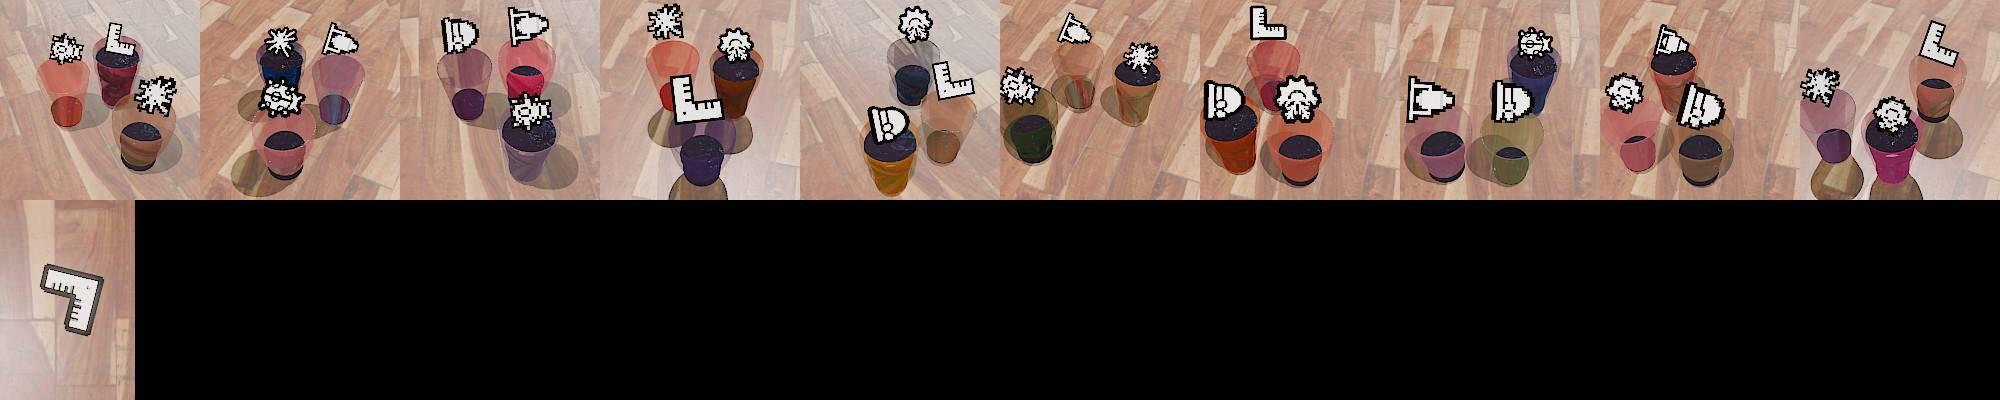icon: (40, 264, 105, 339), (668, 74, 724, 125), (1406, 75, 1457, 125), (1676, 80, 1726, 130), (1273, 74, 1323, 122), (1918, 18, 1962, 68), (1490, 78, 1533, 125), (258, 76, 306, 118), (930, 60, 976, 102), (1872, 94, 1916, 138), (135, 74, 179, 117), (508, 6, 551, 48), (1514, 25, 1559, 66), (999, 64, 1041, 106), (1797, 65, 1841, 106), (1605, 71, 1645, 113), (1205, 79, 1242, 124), (867, 104, 908, 144), (260, 27, 302, 65), (509, 92, 551, 129), (440, 17, 478, 56), (895, 5, 934, 45), (647, 3, 685, 42), (1250, 4, 1287, 42), (1121, 39, 1161, 75), (323, 20, 360, 57), (1654, 23, 1691, 57), (1059, 11, 1094, 46), (103, 22, 136, 59), (48, 33, 84, 65), (718, 28, 753, 56)
